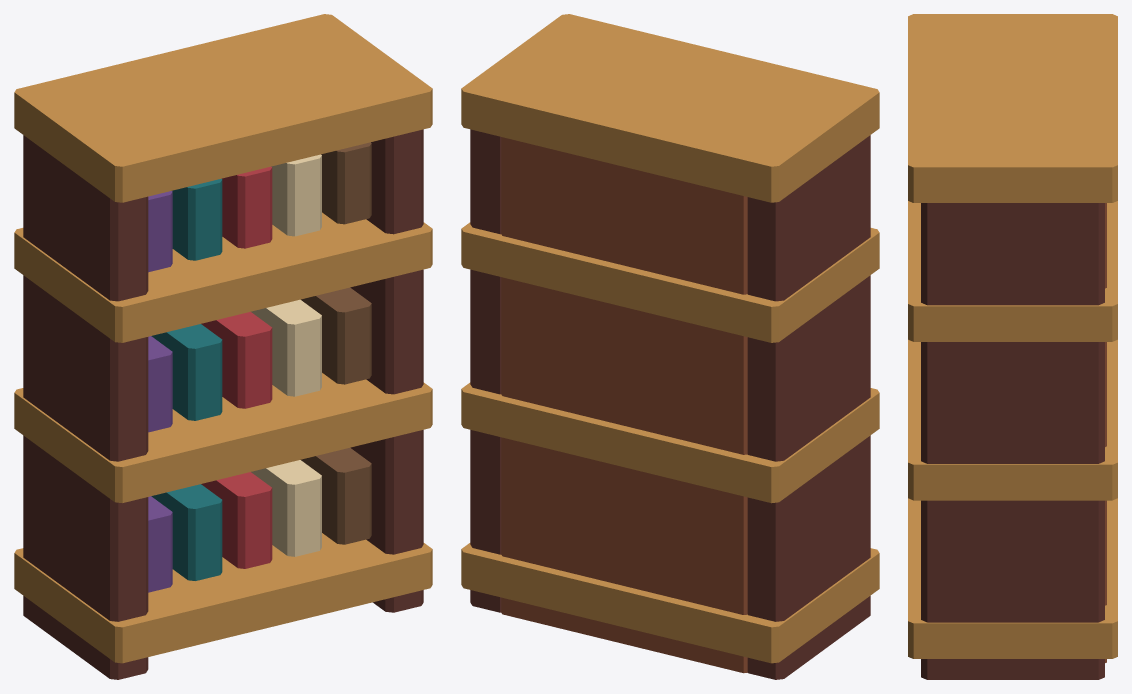
File: Bookcase.fbx
The picture shows the model from 3 angles, left to right: view 1: azimuth 30°, elevation 25°; view 2: azimuth 150°, elevation 25°; view 3: azimuth 270°, elevation 25°; orthographic projection.
Parts seen in each view (by area): view 1: Bookcase.005; view 2: Bookcase.005; view 3: Bookcase.005.
Boxes of the visible parts, x1,y1,x2,y2 form: Bookcase.005: [14, 14, 432, 679]; Bookcase.005: [461, 14, 879, 679]; Bookcase.005: [908, 14, 1117, 679].
Bounding box in the file's own units: 83 × 130 × 48.
